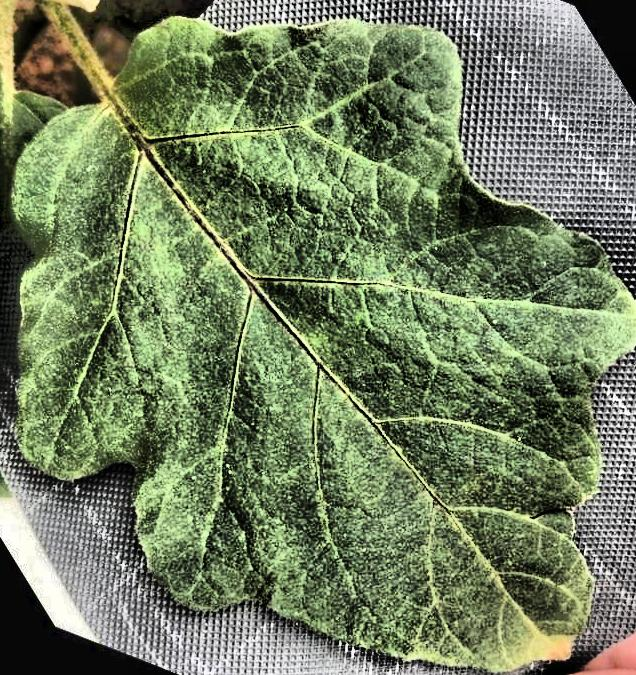HEALTHY: (1, 1, 636, 675)
